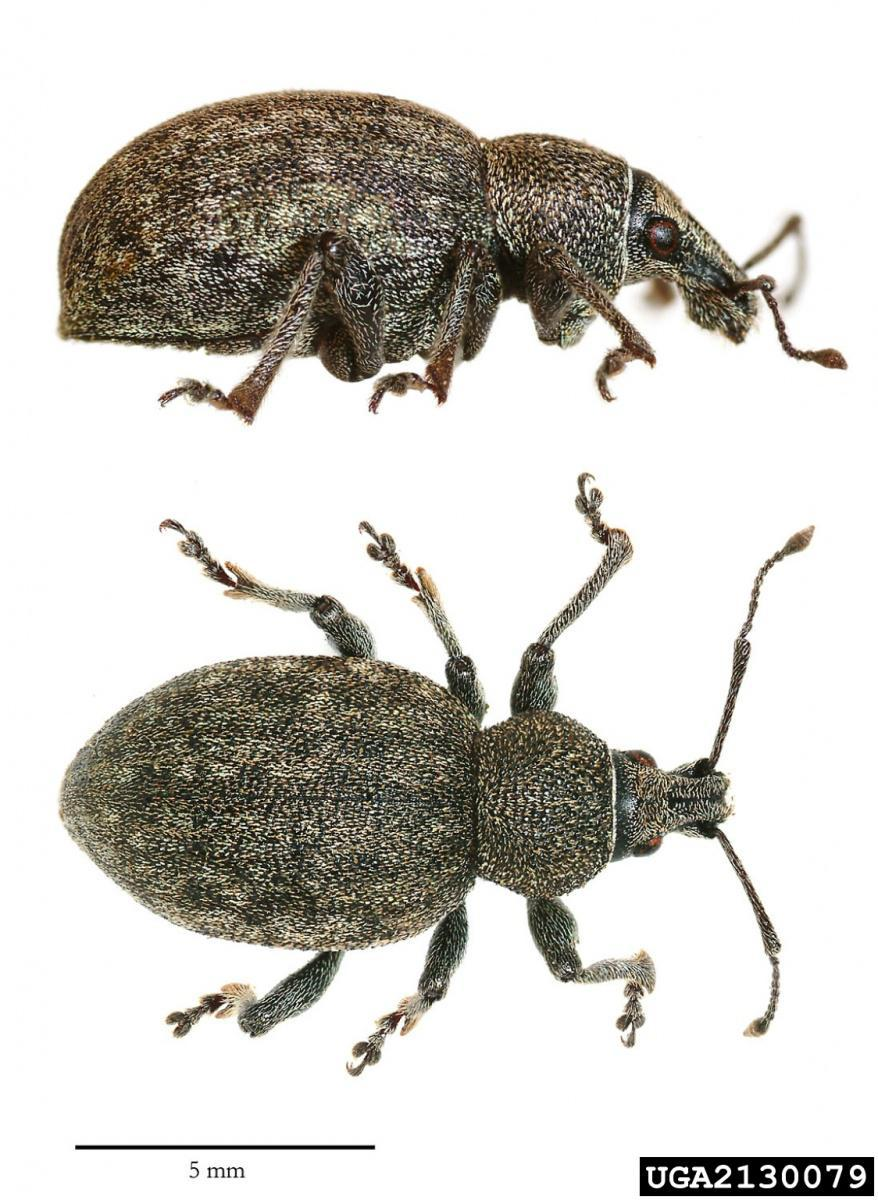weevils: (27, 443, 848, 1123), (28, 25, 863, 465)
